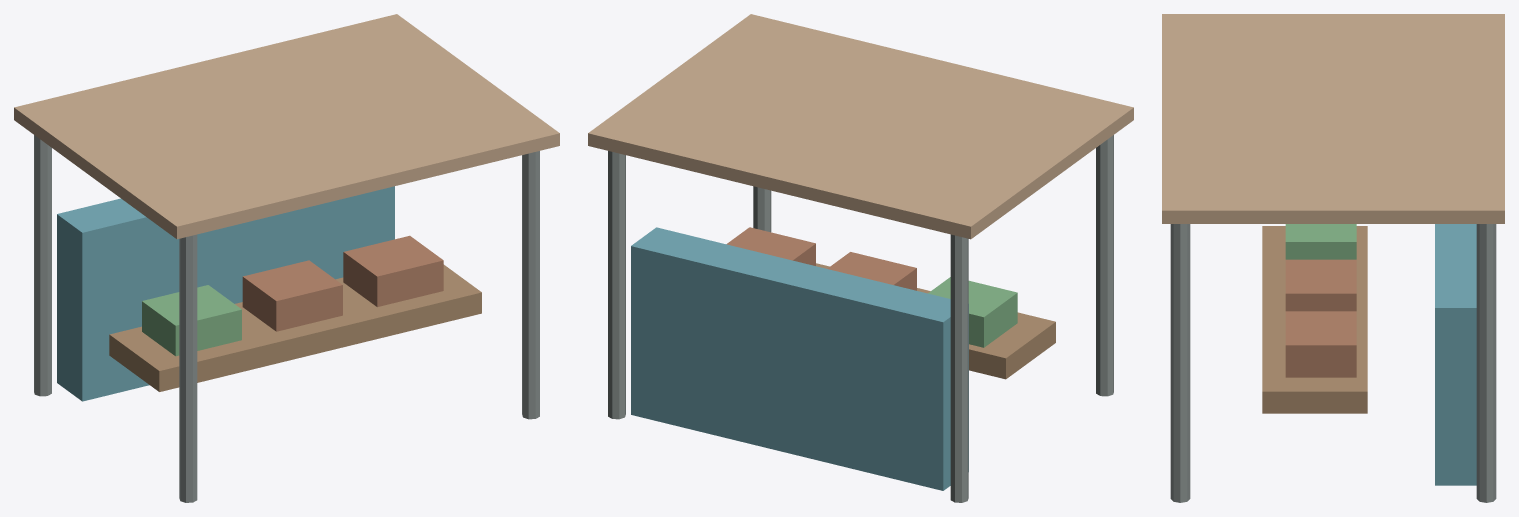
Rendered from town_market_stall.glb.
3 renders of one model, left to right at view 1: azimuth 30°, elevation 25°; view 2: azimuth 150°, elevation 25°; view 3: azimuth 270°, elevation 25°, orthographic. The views are drawn at different scales.
Visible parts, largest first — view 1: bright patched canopy, storage shelves, barter counter, stock basket.002, stock basket.001, market canopy post.001, market canopy post.003, market canopy post, stock basket; view 2: bright patched canopy, storage shelves, market canopy post, market canopy post.002, market canopy post.001, barter counter, stock basket, stock basket.001, stock basket.002, market canopy post.003; view 3: bright patched canopy, storage shelves, barter counter, market canopy post.002, market canopy post.003, stock basket.002, stock basket.001, stock basket.
Part boxes in pixels (left/top/right/bottom): bright patched canopy: left=14, top=14, right=559, bottom=239; storage shelves: left=57, top=186, right=394, bottom=401; barter counter: left=109, top=264, right=481, bottom=391; stock basket.002: left=343, top=235, right=443, bottom=306; stock basket.001: left=242, top=260, right=342, bottom=331; market canopy post.001: left=179, top=234, right=197, bottom=502; market canopy post.003: left=522, top=151, right=539, bottom=419; market canopy post: left=34, top=135, right=51, bottom=396; stock basket: left=142, top=285, right=241, bottom=356; bright patched canopy: left=588, top=14, right=1133, bottom=239; storage shelves: left=631, top=227, right=968, bottom=490; market canopy post: left=950, top=234, right=968, bottom=502; market canopy post.002: left=608, top=151, right=625, bottom=419; market canopy post.001: left=1096, top=135, right=1113, bottom=396; barter counter: left=816, top=263, right=1055, bottom=379; stock basket: left=928, top=277, right=1017, bottom=347; stock basket.001: left=827, top=252, right=916, bottom=290; stock basket.002: left=726, top=227, right=815, bottom=265; market canopy post.003: left=753, top=186, right=771, bottom=232; bright patched canopy: left=1162, top=14, right=1504, bottom=223; storage shelves: left=1435, top=224, right=1476, bottom=485; barter counter: left=1262, top=226, right=1367, bottom=413; market canopy post.002: left=1476, top=224, right=1496, bottom=502; market canopy post.003: left=1170, top=224, right=1190, bottom=502; stock basket.002: left=1285, top=311, right=1356, bottom=377; stock basket.001: left=1285, top=259, right=1356, bottom=311; stock basket: left=1285, top=224, right=1356, bottom=259.
Size of the model in its own units: 3.8 by 2.69 by 2.8.
